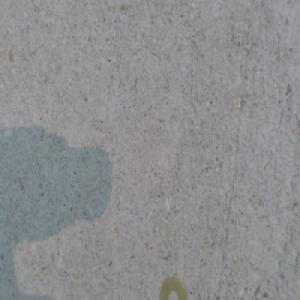Washer: (160, 280, 187, 299)
